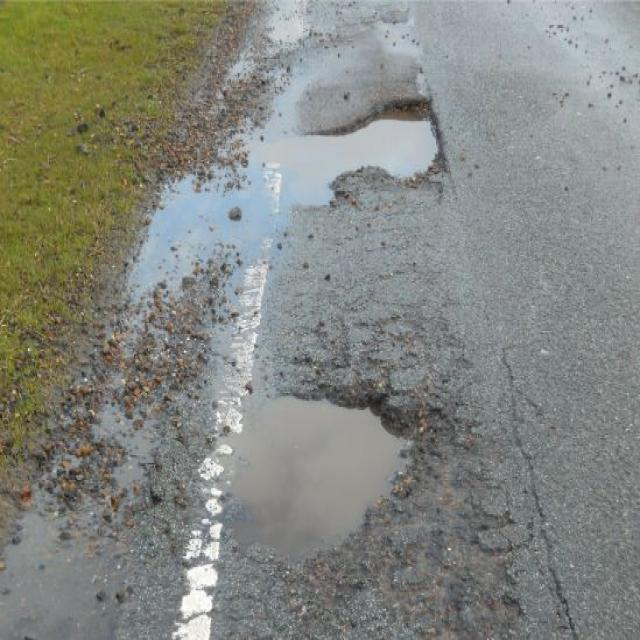Pothole: (222, 373, 444, 567), (291, 90, 449, 210)
